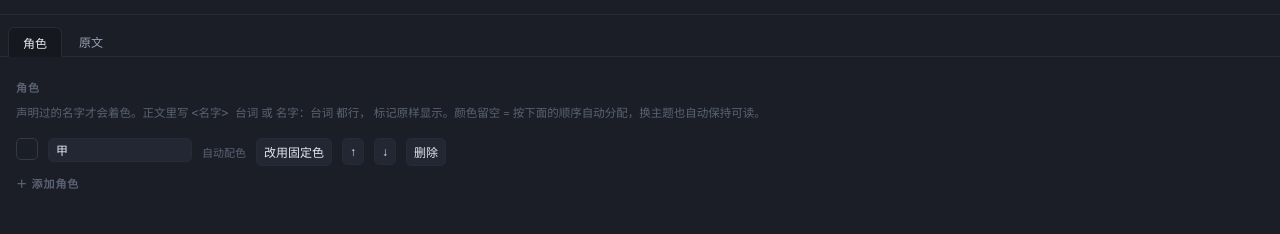
Test: CharacterEditor › 角色名叫 b：只是警告，照常写回
Replace the text in the field with "b" at (120, 150), box [48,138,192,162]
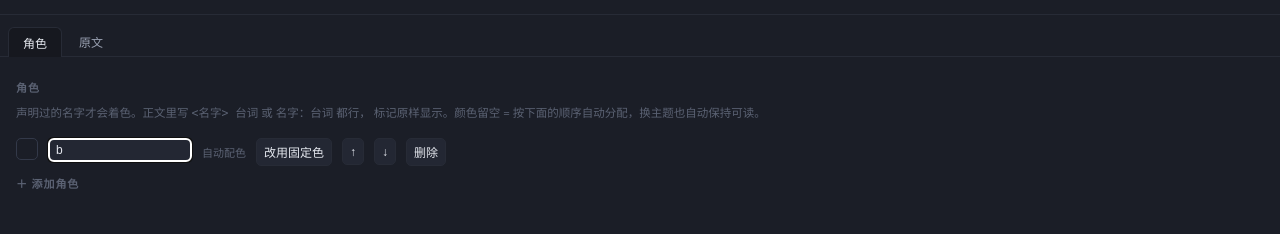
Press Tab
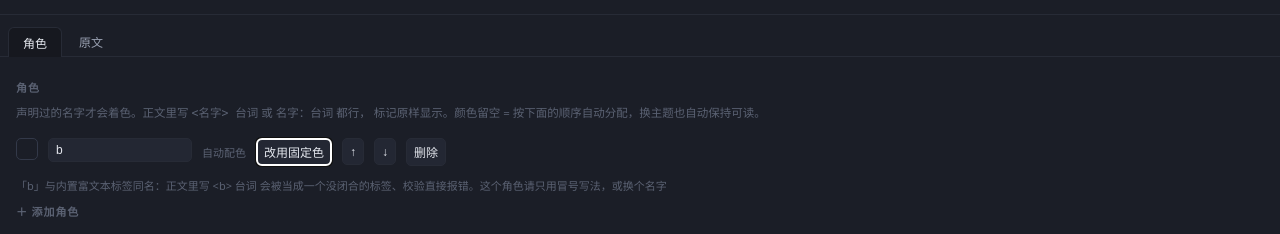
Result: the message shows "与内置富文本标签同名" at [16,178,667,192]
